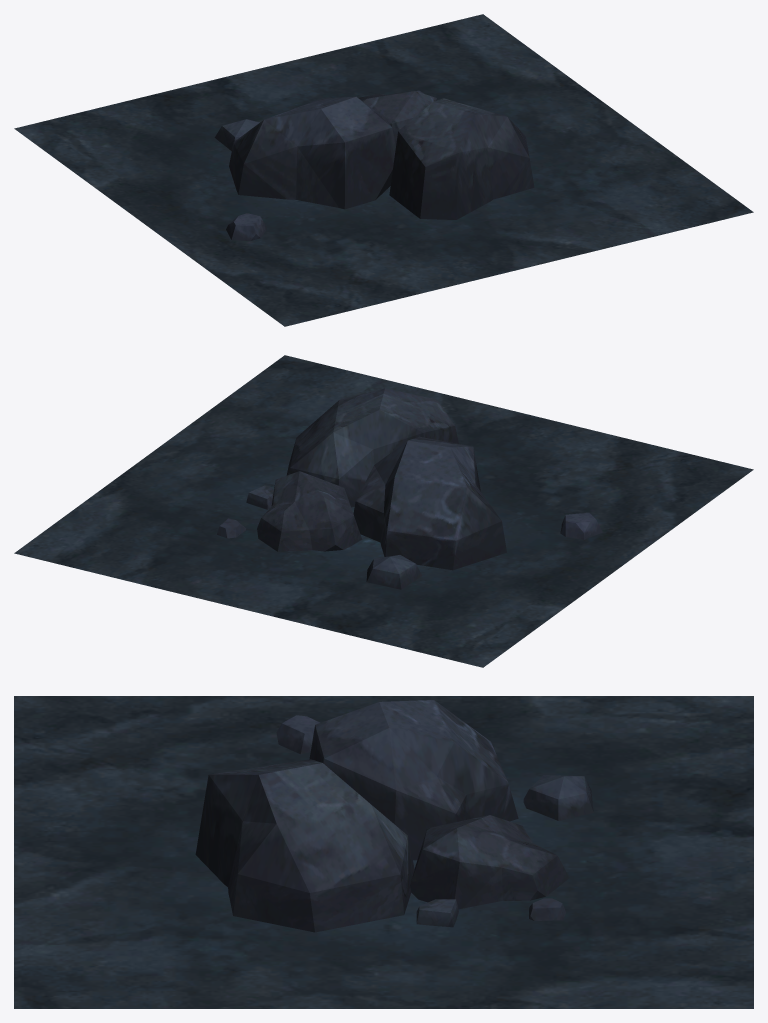
Rendered from mine_rubble_05.fbx.
3 views of the same model, one above another, from view 1: azimuth 30°, elevation 25°; view 2: azimuth 150°, elevation 25°; view 3: azimuth 270°, elevation 25° (orthographic). The views are drawn at different scales.
Parts seen in each view (by area): view 1: obj1.039; view 2: obj1.039; view 3: obj1.039.
Part boxes in pixels (x1,y1,x2,y2): obj1.039: (14,14,753,326); obj1.039: (14,355,753,667); obj1.039: (14,696,753,1008).
Bounding box in the file's own units: 4 × 0.6912 × 4.
